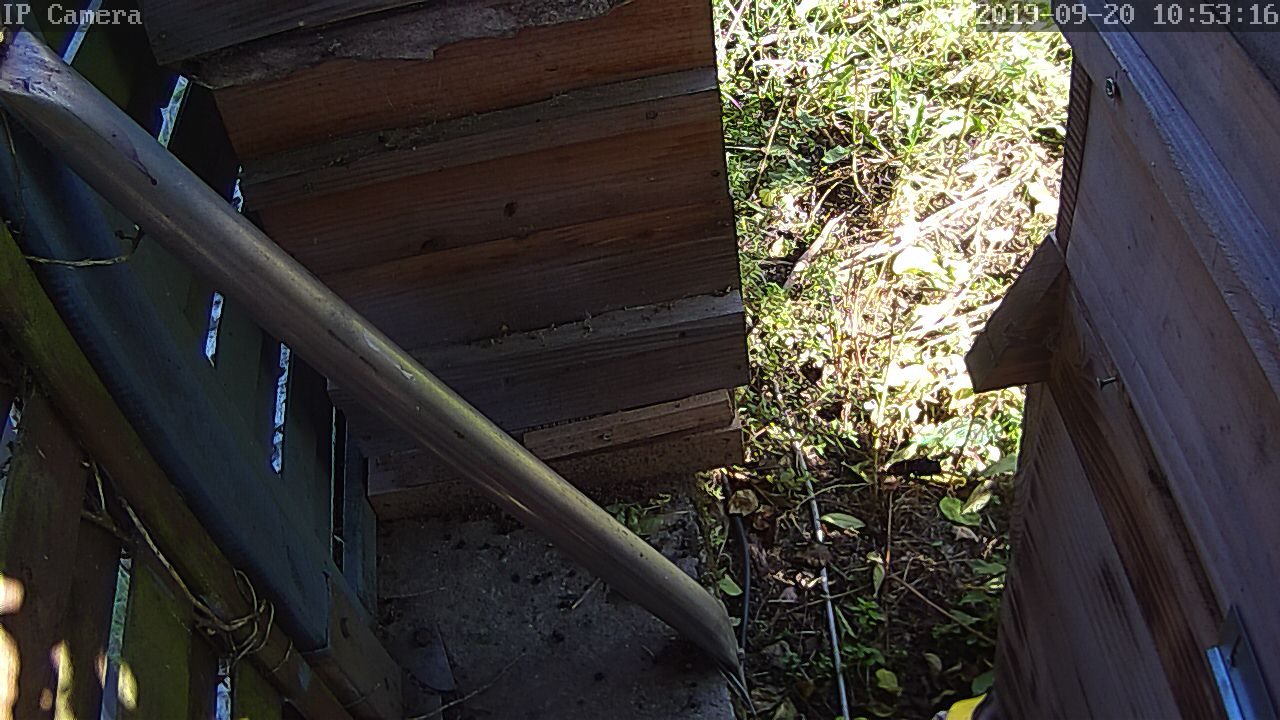hornet: (21, 27, 1117, 708)
